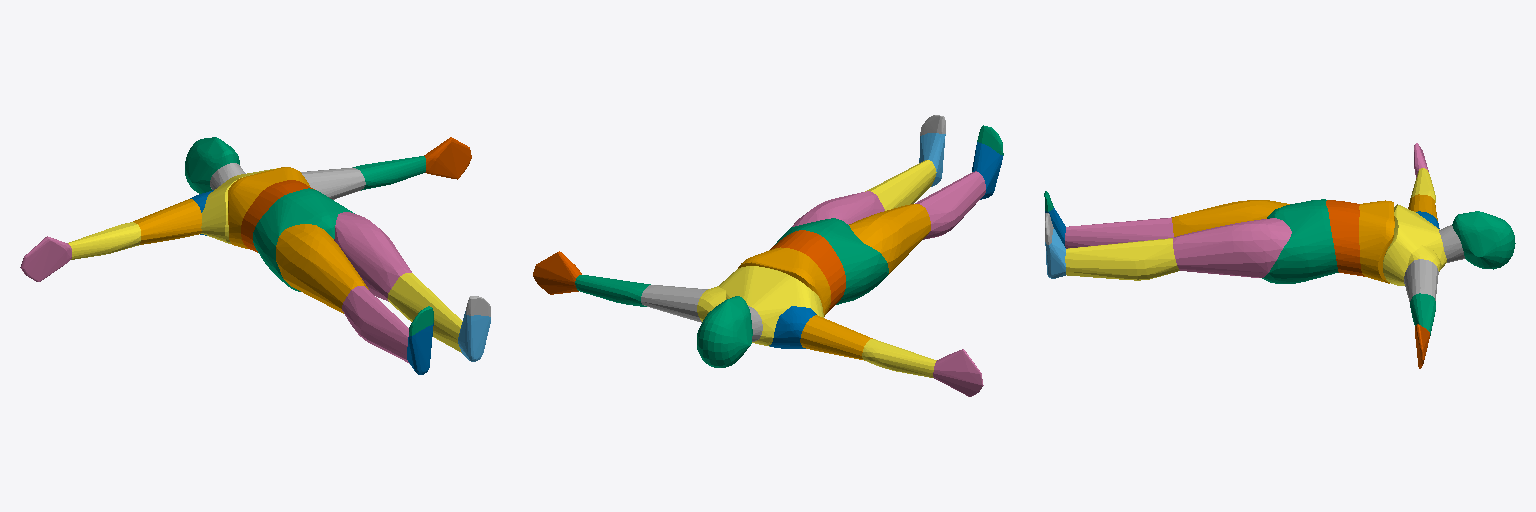
--- Facts derived from the render (not from the file) ---
The picture shows the robot from 3 angles, left to right: view 1: azimuth 30°, elevation 25°; view 2: azimuth 150°, elevation 25°; view 3: azimuth 270°, elevation 25°; orthographic projection.
Robot: Humanoid — 71 links, 70 joints (63 revolute, 7 fixed); root link root; default pose: all joints at 0.
Links seen in each view (by area): view 1: right_UpLeg_rx, left_UpLeg_rx, hip_rx, right_leg_rx, left_leg_rx, spine1_rx, right_arm_rx, head, right_fore_arm_rx, right_hand, left_fore_arm_rx, left_hand (+5 smaller); view 2: spine2_rx, hip_rx, right_UpLeg_rx, head, right_leg_rx, spine1_rx, spine_rx, right_arm_rx, left_leg_rx, left_UpLeg_rx, right_fore_arm_rx, left_arm_rx (+7 smaller); view 3: left_UpLeg_rx, hip_rx, left_leg_rx, head, spine2_rx, spine1_rx, right_leg_rx, right_UpLeg_rx, spine_rx, left_arm_rx, left_fore_arm_rx, left_foot_rx (+1 smaller).
Link boxes in pixels (x1=…): right_UpLeg_rx: x1=276, y1=224, x2=368, y2=313; left_UpLeg_rx: x1=334, y1=212, x2=411, y2=301; hip_rx: x1=253, y1=188, x2=354, y2=291; right_leg_rx: x1=342, y1=286, x2=409, y2=363; left_leg_rx: x1=387, y1=273, x2=462, y2=352; spine1_rx: x1=228, y1=167, x2=309, y2=248; right_arm_rx: x1=133, y1=199, x2=201, y2=244; head: x1=185, y1=137, x2=239, y2=193; right_fore_arm_rx: x1=68, y1=222, x2=140, y2=259; right_hand: x1=20, y1=236, x2=71, y2=281; left_fore_arm_rx: x1=353, y1=156, x2=425, y2=190; left_hand: x1=424, y1=137, x2=471, y2=179; spine2_rx: x1=719, y1=266, x2=823, y2=346; hip_rx: x1=775, y1=218, x2=888, y2=304; right_UpLeg_rx: x1=849, y1=204, x2=930, y2=274; head: x1=697, y1=296, x2=752, y2=367; right_leg_rx: x1=915, y1=171, x2=985, y2=239; spine1_rx: x1=738, y1=247, x2=830, y2=316; spine_rx: x1=770, y1=230, x2=845, y2=312; right_arm_rx: x1=800, y1=315, x2=872, y2=360; left_leg_rx: x1=865, y1=160, x2=936, y2=210; left_UpLeg_rx: x1=792, y1=191, x2=884, y2=226; right_fore_arm_rx: x1=862, y1=339, x2=936, y2=377; left_arm_rx: x1=641, y1=285, x2=707, y2=322; left_UpLeg_rx: x1=1173, y1=218, x2=1291, y2=277; hip_rx: x1=1262, y1=199, x2=1338, y2=283; left_leg_rx: x1=1065, y1=238, x2=1179, y2=280; head: x1=1452, y1=211, x2=1515, y2=269; spine2_rx: x1=1383, y1=204, x2=1446, y2=285; spine1_rx: x1=1359, y1=200, x2=1394, y2=283; right_leg_rx: x1=1065, y1=217, x2=1173, y2=248; right_UpLeg_rx: x1=1172, y1=200, x2=1289, y2=236; spine_rx: x1=1326, y1=200, x2=1364, y2=276; left_arm_rx: x1=1404, y1=259, x2=1438, y2=301; left_fore_arm_rx: x1=1410, y1=293, x2=1435, y2=335; left_foot_rx: x1=1045, y1=229, x2=1065, y2=278.
Size in the robot's own frame: 1.75 by 1.72 by 0.2905 metres.
Meshes: 22 distinct files referenced, 22 mesh visuals loaded (22 OBJ).

robot.urdf — Humanoid:
<?xml version="1.0"?>
<robot name="Humanoid">
    <link name="root">
		
	</link>

    <link name="assist_link1">
        
    </link>

    <joint name="0" type="fixed">
        <origin xyz="0 0 0" rpy="0.0 0.0 0.0"/>
        <parent link="root"/>
        <child link="assist_link1"/>
        <axis xyz="0.0 0.0 0.0"/>
        <limit lower="0.0" upper="0.0" effort="0.0" velocity="0.0"/>
    </joint>

    <joint name="assist_jointA1" type="fixed">
        <origin xyz="0.0 0.0 0.0" rpy="0.0 0.0 0.0"/>
        <parent link="assist_link1"/>
        <child link="hip_rx"/>
        <axis xyz="0.0 0.0 0.0"/>
        <limit lower="0.0" upper="0.0" effort="0.0" velocity="0.0"/>
    </joint>

    <link name="hip_rx">
        <visual>
            <origin xyz="0.00057561 -0.00681268 -0.01696218" rpy="0.0 0.0 0.0"/>
            <geometry>
                <mesh filename="package://Humanoid/meshes/body_parts_hips.obj" />
            </geometry>
        </visual>
        <collision>
            <origin xyz="0.00057561 -0.00681268 -0.01696218" rpy="0.0 0.0 0.0"/>
            <geometry>
                <mesh filename="package://Humanoid/meshes/body_parts_hips.obj" />
            </geometry>
        </collision>
    </link>

    <joint name="assist_jointA2" type="fixed">
        <origin xyz="0.0 0.0 0.0" rpy="0.0 0.0 0.0"/>
        <parent link="assist_link1"/>
        <child link="temp1_rx"/>
        <axis xyz="0.0 0.0 0.0"/>
        <limit lower="0.0" upper="0.0" effort="0.0" velocity="0.0"/>
    </joint>

    <joint name="assist_jointA3" type="fixed">
        <origin xyz="0.0 0.0 0.0" rpy="0.0 0.0 0.0"/>
        <parent link="assist_link1"/>
        <child link="temp2_rx"/>
    </joint>

    <link name="temp2_rx">
        
    </link>

    <joint name="1_rx" type="revolute">
        <origin xyz="0.06951974 -0.09140623 -0.00681533" rpy="0.0 0.0 0.0"/>
        <parent link="temp2_rx"/>
        <child link="temp2_ry"/>
        <axis xyz="1.0 0.0 0.0"/>
        <limit lower="-2.2" upper="1.1" effort="1000.0" velocity="0.5"/>
    </joint>

    <link name="temp2_ry">
        
    </link>

    <joint name="1_ry" type="revolute">
        <origin xyz="0 0 0" rpy="0.0 0.0 0.0"/>
        <parent link="temp2_ry"/>
        <child link="temp2_rz"/>
        <axis xyz="0.0 1.0 0.0"/>
        <limit lower="-1.2" upper="1.1" effort="1000.0" velocity="0.5"/>
    </joint>

    <link name="temp2_rz">
        
    </link>

    <joint name="1_rz" type="revolute">
        <origin xyz="0 0 0" rpy="0.0 0.0 0.0"/>
        <parent link="temp2_rz"/>
        <child link="left_UpLeg_rx"/>
        <axis xyz="0.0 0.0 1.0"/>
        <limit lower="-1.5" upper="1.3" effort="1000.0" velocity="0.5"/>
    </joint>

    <link name="left_UpLeg_rx">
        <visual>
            <origin xyz="0.02136212  -0.15149257  0.00267958" rpy="0.0 0.0 0.0"/>
            <geometry>
                <mesh filename="package://Humanoid/meshes/body_parts_leftUpLeg.obj" />
            </geometry>
        </visual>
        <collision>
            <origin xyz="0.02136212 -0.15149257 0.00267958" rpy="0.0 0.0 0.0"/>
            <geometry>
                <mesh filename="package://Humanoid/meshes/body_parts_leftUpLeg.obj" />
            </geometry>
        </collision>
    </link>

    <link name="temp1_rx">
        
    </link>

    <link name="right_UpLeg_rx">
        <visual>
            <origin xyz="-0.02252603 -0.15352734 -0.00307775" rpy="0.0 0.0 0.0"/>
            <geometry>
                <mesh filename="package://Humanoid/meshes/body_parts_rightUpLeg.obj" />
            </geometry>
        </visual>
        <collision>
            <origin xyz="-0.02252603 -0.15352734 -0.00307775" rpy="0.0 0.0 0.0"/>
            <geometry>
                <mesh filename="package://Humanoid/meshes/body_parts_rightUpLeg.obj" />
            </geometry>
        </collision>
    </link>

    <joint name="2_rx" type="revolute">
        <origin xyz="-0.06767048 -0.09052169 -0.00431982" rpy="0.0 0.0 0.0"/>
        <parent link="temp1_rx"/>
        <child link="temp1_ry"/>
        <axis xyz="1.0 0.0 0.0"/>
        <limit lower="-2.2" upper="1.1" effort="1000.0" velocity="0.5"/>
    </joint>

    <link name="temp1_ry">
        
    </link>

    <joint name="2_ry" type="revolute">
        <origin xyz="0 0 0" rpy="0.0 0.0 0.0"/>
        <parent link="temp1_ry"/>
        <child link="temp1_rz"/>
        <axis xyz="0.0 1.0 0.0"/>
        <limit lower="-1.2" upper="1.1" effort="1000.0" velocity="0.5"/>
    </joint>

    <link name="temp1_rz">
        
    </link>

    <joint name="2_rz" type="revolute">
        <origin xyz="0 0 0" rpy="0.0 0.0 0.0"/>
        <parent link="temp1_rz"/>
        <child link="right_UpLeg_rx"/>
        <axis xyz="0.0 0.0 1.0"/>
        <limit lower="-1.5" upper="1.3" effort="1000.0" velocity="0.5"/>
    </joint>

    <link name="left_leg_rx">
        <visual>
            <origin xyz="-0.00726278 -0.16462932 -0.0345356" rpy="0.0 0.0 0.0"/>
            <geometry>
                <mesh filename="package://Humanoid/meshes/body_parts_leftLeg.obj" />
            </geometry>
        </visual>
        <collision>
            <origin xyz="-0.00726278 -0.16462932 -0.0345356" rpy="0.0 0.0 0.0"/>
            <geometry>
                <mesh filename="package://Humanoid/meshes/body_parts_leftLeg.obj" />
            </geometry>
        </collision>
    </link>

    <joint name="4_rx" type="revolute">
        <origin xyz="0.03427655 -0.37519857 -0.00449581" rpy="0.0 0.0 0.0"/>
        <parent link="left_UpLeg_rx"/>
        <child link="left_UpLeg_ry"/>
        <axis xyz="1.0 0.0 0.0"/>
        <limit lower="-1.2" upper="2.9" effort="1000.0" velocity="0.5"/>
    </joint>

    <link name="left_UpLeg_ry">
        
    </link>

    <joint name="4_ry" type="revolute">
        <origin xyz="0.0 0.0 0.0" rpy="0.0 0.0 0.0"/>
        <parent link="left_UpLeg_ry"/>
        <child link="left_UpLeg_rz"/>
        <axis xyz="0.0 1.0 0.0"/>
        <limit lower="-1.0" upper="1.0" effort="1000.0" velocity="0.5"/>
    </joint>

    <link name="left_UpLeg_rz">
        
    </link>

    <joint name="4_rz" type="revolute">
        <origin xyz="0.0 0.0 0.0" rpy="0.0 0.0 0.0"/>
        <parent link="left_UpLeg_rz"/>
        <child link="left_leg_rx"/>
        <axis xyz="0.0 0.0 1.0"/>
        <limit lower="-0.8" upper="0.7" effort="1000.0" velocity="0.5"/>
    </joint>

    <link name="right_leg_rx">
        <visual>
            <origin xyz="0.01018021 -0.15886355 -0.03476419" rpy="0.0 0.0 0.0"/>
            <geometry>
                <mesh filename="package://Humanoid/meshes/body_parts_rightLeg.obj" />
            </geometry>
        </visual>
        <collision>
            <origin xyz="0.01018021 -0.15886355 -0.03476419" rpy="0.0 0.0 0.0"/>
            <geometry>
                <mesh filename="package://Humanoid/meshes/body_parts_rightLeg.obj" />
            </geometry>
        </collision>
    </link>

    <joint name="5_rx" type="revolute">
        <origin xyz="-0.03829005 -0.382569 -0.00885003" rpy="0.0 0.0 0.0"/>
        <parent link="right_UpLeg_rx"/>
        <child link="right_UpLeg_ry"/>
        <axis xyz="1.0 0.0 0.0"/>
        <limit lower="-1.2" upper="2.9" effort="1000.0" velocity="0.5"/>
    </joint>

    <link name="right_UpLeg_ry">
        
    </link>

    <joint name="5_ry" type="revolute">
        <origin xyz="0.0 0.0 0.0" rpy="0.0 0.0 0.0"/>
        <parent link="right_UpLeg_ry"/>
        <child link="right_UpLeg_rz"/>
        <axis xyz="0.0 1.0 0.0"/>
        <limit lower="-1.0" upper="1.0" effort="1000.0" velocity="0.5"/>
    </joint>

    <link name="right_UpLeg_rz">
        
    </link>

    <joint name="5_rz" type="revolute">
        <origin xyz="0.0 0.0 0.0" rpy="0.0 0.0 0.0"/>
        <parent link="right_UpLeg_rz"/>
        <child link="right_leg_rx"/>
        <axis xyz="0.0 0.0 1.0"/>
        <limit lower="-0.8" upper="0.7" effort="1000.0" velocity="0.5"/>
    </joint>

    <link name="left_foot_rx">
        <visual>
            <origin xyz="0.01451171 -0.03682505 0.03742239" rpy="0.0 0.0 0.0"/>
            <geometry>
                <mesh filename="package://Humanoid/meshes/body_parts_leftFoot.obj" />
            </geometry>
        </visual>
        <collision>
            <origin xyz="0.01451171 -0.03682505 0.03742239" rpy="0.0 0.0 0.0"/>
            <geometry>
                <mesh filename="package://Humanoid/meshes/body_parts_leftFoot.obj" />
            </geometry>
        </collision>
    </link>

    <joint name="7_rx" type="revolute">
        <origin xyz="-0.0135957 -0.39796048 -0.04369333" rpy="0.0 0.0 0.0"/>
        <parent link="left_leg_rx"/>
        <child link="left_leg_ry"/>
        <axis xyz="1.0 0.0 0.0"/>
        <limit lower="-1.3" upper="1.2" effort="1000.0" velocity="0.5"/>
    </joint>

    <link name="left_leg_ry">
        
    </link>

    <joint name="7_ry" type="revolute">
        <origin xyz="0 0 0" rpy="0.0 0.0 0.0"/>
        <parent link="left_leg_ry"/>
        <child link="left_leg_rz"/>
        <axis xyz="0.0 1.0 0.0"/>
        <limit lower="-1.3" upper="1.0" effort="1000.0" velocity="0.5"/>
    </joint>

    <link name="left_leg_rz">
        
    </link>

    <joint name="7_rz" type="revolute">
        <origin xyz="0 0 0" rpy="0.0 0.0 0.0"/>
        <parent link="left_leg_rz"/>
        <child link="left_foot_rx"/>
        <axis xyz="0.0 0.0 1.0"/>
        <limit lower="-0.6" upper="1.3" effort="1000.0" velocity="0.5"/>
    </joint>

    <link name="right_foot_rx">
        <visual>
            <origin xyz="-0.01278681 -0.02989952 0.0397387" rpy="0.0 0.0 0.0"/>
            <geometry>
                <mesh filename="package://Humanoid/meshes/body_parts_rightFoot.obj" />
            </geometry>
        </visual>
        <collision>
            <origin xyz="-0.01278681 -0.02989952 0.0397387" rpy="0.0 0.0 0.0"/>
            <geometry>
                <mesh filename="package://Humanoid/meshes/body_parts_rightFoot.obj" />
            </geometry>
        </collision>
    </link>

    <joint name="8_rx" type="revolute">
        <origin xyz="0.01577377 -0.3984146 -0.0423118" rpy="0.0 0.0 0.0"/>
        <parent link="right_leg_rx"/>
        <child link="right_leg_ry"/>
        <axis xyz="1.0 0.0 0.0"/>
        <limit lower="-1.3" upper="1.2" effort="1000.0" velocity="0.5"/>
    </joint>

    <link name="right_leg_ry">
        
    </link>

    <joint name="8_ry" type="revolute">
        <origin xyz="0 0 0" rpy="0.0 0.0 0.0"/>
        <parent link="right_leg_ry"/>
        <child link="right_leg_rz"/>
        <axis xyz="0.0 1.0 0.0"/>
        <limit lower="-1.3" upper="1.0" effort="1000.0" velocity="0.5"/>
    </joint>

    <link name="right_leg_rz">
        
    </link>

    <joint name="8_rz" type="revolute">
        <origin xyz="0 0 0" rpy="0.0 0.0 0.0"/>
        <parent link="right_leg_rz"/>
        <child link="right_foot_rx"/>
        <axis xyz="0.0 0.0 1.0"/>
        <limit lower="-0.6" upper="1.3" effort="1000.0" velocity="0.5"/>
    </joint>

    <link name="left_toe">
        <visual>
            <origin xyz="-0.0072139 -0.00405795 0.02618084" rpy="0.0 0.0 0.0"/>
            <geometry>
                <mesh filename="package://Humanoid/meshes/body_parts_leftToeBase.obj" />
            </geometry>
        </visual>
        <collision>
            <origin xyz="-0.0072139 -0.00405795 0.02618084" rpy="0.0 0.0 0.0"/>
            <geometry>
                <mesh filename="package://Humanoid/meshes/body_parts_leftToeBase.obj" />
            </geometry>
        </collision>
    </link>

    <joint name="10_rx" type="revolute">
        <origin xyz="0.02635814 -0.05579078 0.1192884" rpy="0.0 0.0 0.0"/>
        <parent link="left_foot_rx"/>
        <child link="left_foot_ry"/>
        <axis xyz="1.0 0.0 0.0"/>
        <limit lower="-0.9" upper="0.3" effort="1000.0" velocity="0.5"/>
    </joint>

    <link name="left_foot_ry">
        
    </link>

    <joint name="10_ry" type="revolute">
        <origin xyz="0.0 0.0 0.0" rpy="0.0 0.0 0.0"/>
        <parent link="left_foot_ry"/>
        <child link="left_foot_rz"/>
        <axis xyz="0.0 1.0 0.0"/>
        <limit lower="-0.3" upper="0.6" effort="1000.0" velocity="0.5"/>
    </joint>

    <link name="left_foot_rz">
        
    </link>

    <joint name="10_rz" type="revolute">
        <origin xyz="0.0 0.0 0.0" rpy="0.0 0.0 0.0"/>
        <parent link="left_foot_rz"/>
        <child link="left_toe"/>
        <axis xyz="0.0 0.0 1.0"/>
        <limit lower="-0.8" upper="0.8" effort="1000.0" velocity="0.5"/>
    </joint>

    <link name="right_toe">
        <visual>
            <origin xyz="0.00808544 -0.00602809 0.02469485" rpy="0.0 0.0 0.0"/>
            <geometry>
                <mesh filename="package://Humanoid/meshes/body_parts_rightToeBase.obj" />
            </geometry>
        </visual>
        <collision>
            <origin xyz="0.00808544 -0.00602809 0.02469485" rpy="0.0 0.0 0.0"/>
            <geometry>
                <mesh filename="package://Humanoid/meshes/body_parts_rightToeBase.obj" />
            </geometry>
        </collision>
    </link>

    <joint name="11_rx" type="revolute">
        <origin xyz="-0.02537176 -0.04814398 0.12334795" rpy="0.0 0.0 0.0"/>
        <parent link="right_foot_rx"/>
        <child link="right_foot_ry"/>
        <axis xyz="1.0 0.0 0.0"/>
        <limit lower="-0.9" upper="0.3" effort="1000.0" velocity="0.5"/>
    </joint>

    <link name="right_foot_ry">
        
    </link>

    <joint name="11_ry" type="revolute">
        <origin xyz="0.0 0.0 0.0" rpy="0.0 0.0 0.0"/>
        <parent link="right_foot_ry"/>
        <child link="right_foot_rz"/>
        <axis xyz="0.0 1.0 0.0"/>
        <limit lower="-0.3" upper="0.6" effort="1000.0" velocity="0.5"/>
    </joint>

    <link name="right_foot_rz">
        
    </link>

    <joint name="11_rz" type="revolute">
        <origin xyz="0.0 0.0 0.0" rpy="0.0 0.0 0.0"/>
        <parent link="right_foot_rz"/>
        <child link="right_toe"/>
        <axis xyz="0.0 0.0 1.0"/>
        <limit lower="-0.8" upper="0.8" effort="1000.0" velocity="0.5"/>
    </joint>

    <link name="spine_rx">
        <visual>
            <origin xyz="0.0029969 0.06265952 0.02763221" rpy="0.0 0.0 0.0"/>
            <geometry>
                <mesh filename="package://Humanoid/meshes/body_parts_spine.obj" />
            </geometry>
        </visual>
        <collision>
            <origin xyz="0.0029969 0.06265952 0.02763221" rpy="0.0 0.0 0.0"/>
            <geometry>
                <mesh filename="package://Humanoid/meshes/body_parts_spine.obj" />
            </geometry>
        </collision>
    </link>
    
    <joint name="3_rx" type="revolute">
        <origin xyz="-0.00253287 0.10896324 -0.02669631" rpy="0.0 0.0 0.0"/>
        <parent link="hip_rx"/>
        <child link="hip_ry"/>
        <axis xyz="1.0 0.0 0.0"/>
        <limit lower="-0.8" upper="2.3" effort="1000.0" velocity="0.5"/>
    </joint>

    <link name="hip_ry">
        
    </link>

    <joint name="3_ry" type="revolute">
        <origin xyz="0 0 0" rpy="0.0 0.0 0.0"/>
        <parent link="hip_ry"/>
        <child link="hip_rz"/>
        <axis xyz="0.0 1.0 0.0"/>
        <limit lower="-0.7" upper="1.0" effort="1000.0" velocity="0.5"/>
    </joint>

    <link name="hip_rz">
        
    </link>

    <joint name="3_rz" type="revolute">
        <origin xyz="0 0 0" rpy="0.0 0.0 0.0"/>
        <parent link="hip_rz"/>
        <child link="spine_rx"/>
        <axis xyz="0.0 1.0 0.0"/>
        <limit lower="-0.7" upper="0.6" effort="1000.0" velocity="0.5"/>
    </joint>

    <link name="spine1_rx">
        <visual>
            <origin xyz="-0.00052418 0.02933144 0.02045965" rpy="0.0 0.0 0.0"/>
            <geometry>
                <mesh filename="package://Humanoid/meshes/body_parts_spine1.obj" />
            </geometry>
        </visual>
        <collision>
            <origin xyz="-0.00052418 0.02933144 0.02045965" rpy="0.0 0.0 0.0"/>
            <geometry>
                <mesh filename="package://Humanoid/meshes/body_parts_spine1.obj" />
            </geometry>
        </collision>
    </link>

    <joint name="6_rx" type="revolute">
        <origin xyz="0.00548704 0.13518043 0.00109247" rpy="0.0 0.0 0.0"/>
        <parent link="spine_rx"/>
        <child link="spine_ry"/>
        <axis xyz="1.0 0.0 0.0"/>
        <limit lower="-1.2" upper="1.0" effort="1000.0" velocity="0.5"/>
    </joint>

    <link name="spine_ry">
        
    </link>

    <joint name="6_ry" type="revolute">
        <origin xyz="0 0 0" rpy="0.0 0.0 0.0"/>
        <parent link="spine_ry"/>
        <child link="spine_rz"/>
        <axis xyz="0.0 1.0 0.0"/>
        <limit lower="-1.3" upper="1.0" effort="1000.0" velocity="0.5"/>
    </joint>

    <link name="spine_rz">
        
    </link>

    <joint name="6_rz" type="revolute">
        <origin xyz="0 0 0" rpy="0.0 0.0 0.0"/>
        <parent link="spine_rz"/>
        <child link="spine1_rx"/>
        <axis xyz="0.0 0.0 1.0"/>
        <limit lower="-0.5" upper="0.6" effort="1000.0" velocity="0.5"/>
    </joint>

    <link name="spine2_rx">
        <visual>
            <origin xyz="-0.0022121 0.09440039 -0.03596294" rpy="0.0 0.0 0.0"/>
            <geometry>
                <mesh filename="package://Humanoid/meshes/body_parts_spine2.obj" />
            </geometry>
        </visual>
        <collision>
            <origin xyz="-0.0022121 0.09440039 -0.03596294" rpy="0.0 0.0 0.0"/>
            <geometry>
                <mesh filename="package://Humanoid/meshes/body_parts_spine2.obj" />
            </geometry>
        </collision>
    </link>

    <link name="assist_link2">
        
    </link>

    <joint name="9_rx" type="revolute">
        <origin xyz="0.001457 0.05292223 0.02542457" rpy="0.0 0.0 0.0"/>
        <parent link="spine1_rx"/>
        <child link="spine1_ry"/>
        <axis xyz="1.0 0.0 0.0"/>
        <limit lower="-0.9" upper="1.1" effort="1000.0" velocity="0.5"/>
    </joint>

    <link name="spine1_ry">
        
    </link>

    <joint name="9_ry" type="revolute">
        <origin xyz="0 0 0" rpy="0.0 0.0 0.0"/>
        <parent link="spine1_ry"/>
        <child link="spine1_rz"/>
        <axis xyz="0.0 1.0 0.0"/>
        <limit lower="-0.7" upper="0.6" effort="1000.0" velocity="0.5"/>
    </joint>

    <link name="spine1_rz">
        
    </link>

    <joint name="9_rz" type="revolute">
        <origin xyz="0 0 0" rpy="0.0 0.0 0.0"/>
        <parent link="spine1_rz"/>
        <child link="assist_link2"/>
        <axis xyz="0.0 0.0 1.0"/>
        <limit lower="-0.4" upper="0.4" effort="1000.0" velocity="0.5"/>
    </joint>

    <joint name="assist_B1" type="fixed">
        <origin xyz="0.0 0.0 0.0" rpy="0.0 0.0 0.0"/>
        <parent link="assist_link2"/>
        <child link="temp14_rx"/>
        <axis xyz="0.0 0.0 0.0"/>
        <limit lower="0.0" upper="0.0" effort="0.0" velocity="0.0"/>
    </joint>

     <joint name="assist_B2" type="fixed">
        <origin xyz="0.0 0.0 0.0" rpy="0.0 0.0 0.0"/>
        <parent link="assist_link2"/>
        <child link="spine2_rx"/>
        <axis xyz="0.0 0.0 0.0"/>
        <limit lower="0.0" upper="0.0" effort="0.0" velocity="0.0"/>
    </joint>

     <joint name="assist_B3" type="fixed">
        <origin xyz="0.0 0.0 0.0" rpy="0.0 0.0 0.0"/>
        <parent link="assist_link2"/>
        <child link="temp13_rx"/>
        <axis xyz="0.0 0.0 0.0"/>
        <limit lower="0.0" upper="0.0" effort="0.0" velocity="0.0"/>
    </joint>
    

    <link name="neck_rx">
        <visual>
            <origin xyz="0.00058504 0.03762274 0.01938053" rpy="0.0 0.0 0.0"/>
            <geometry>
                <mesh filename="package://Humanoid/meshes/body_parts_neck.obj" />
            </geometry>
        </visual>
        <collision>
            <origin xyz="0.00058504 0.03762274 0.01938053" rpy="0.0 0.0 0.0"/>
            <geometry>
                <mesh filename="package://Humanoid/meshes/body_parts_neck.obj" />
            </geometry>
        </collision>
    </link>

    <joint name="12_rx" type="revolute">
        <origin xyz="-0.00277839 0.21387038 -0.04285703" rpy="0.0 0.0 0.0"/>
        <parent link="spine2_rx"/>
        <child link="spine2_ry"/>
        <axis xyz="1.0 0.0 0.0"/>
        <limit lower="-1.5" upper="2.0" effort="1000.0" velocity="0.5"/>
    </joint>

    <link name="spine2_ry">
        
    </link>

    <joint name="12_ry" type="revolute">
        <origin xyz="0 0 0" rpy="0.0 0.0 0.0"/>
        <parent link="spine2_ry"/>
        <child link="spine2_rz"/>
        <axis xyz="0.0 1.0 0.0"/>
        <limit lower="-1.0" upper="1.0" effort="1000.0" velocity="0.5"/>
    </joint>

    <link name="spine2_rz">
        
    </link>

    <joint name="12_rz" type="revolute">
        <origin xyz="0 0 0" rpy="0.0 0.0 0.0"/>
        <parent link="spine2_rz"/>
        <child link="neck_rx"/>
        <axis xyz="0.0 0.0 1.0"/>
        <limit lower="-0.7" upper="0.7" effort="1000.0" velocity="0.5"/>
    </joint>

    <link name="head">
        <visual>
            <origin xyz="-0.00434165 0.0912436 -0.0164248" rpy="0.0 0.0 0.0"/>
            <geometry>
                <mesh filename="package://Humanoid/meshes/body_parts_head.obj" />
            </geometry>
        </visual>
        <collision>
            <origin xyz="-0.00434165 0.0912436 -0.0164248" rpy="0.0 0.0 0.0"/>
            <geometry>
                <mesh filename="package://Humanoid/meshes/body_parts_head.obj" />
            </geometry>
        </collision>
    </link>

    <joint name="15_rx" type="revolute">
        <origin xyz="0.00515184 0.06496963 0.05134897" rpy="0.0 0.0 0.0"/>
        <parent link="neck_rx"/>
        <child link="neck_ry"/>
        <axis xyz="1.0 0.0 0.0"/>
        <limit lower="-1.4" upper="1.8" effort="1000.0" velocity="0.5"/>
    </joint>

    <link name="neck_ry">
        
    </link>

    <joint name="15_ry" type="revolute">
        <origin xyz="0 0 0" rpy="0.0 0.0 0.0"/>
        <parent link="neck_ry"/>
        <child link="neck_rz"/>
        <axis xyz="0.0 1.0 0.0"/>
        <limit lower="-1.3" upper="1.0" effort="1000.0" velocity="0.5"/>
    </joint>

    <link name="neck_rz">
        
    </link>

    <joint name="15_rz" type="revolute">
        <origin xyz="0 0 0" rpy="0.0 0.0 0.0"/>
        <parent link="neck_rz"/>
        <child link="head"/>
        <axis xyz="0.0 0.0 1.0"/>
        <limit lower="-0.9" upper="1.6" effort="1000.0" velocity="0.5"/>
    </joint>

    <link name="temp14_rx">
    </link>

    <joint name="13_rx" type="revolute">
        <origin xyz="0.07884474 0.12174932 -0.03408961" rpy="0.0 0.0 0.0"/>
        <parent link="temp14_rx"/>
        <child link="temp14_ry"/>
        <axis xyz="1.0 0.0 0.0"/>
        <limit lower="-1.3" upper="1.7" effort="1000.0" velocity="0.5"/>
    </joint>

    <link name="temp14_ry">
        
    </link>

    <joint name="13_ry" type="revolute">
        <origin xyz="0 0 0" rpy="0.0 0.0 0.0"/>
        <parent link="temp14_ry"/>
        <child link="temp14_rz"/>
        <axis xyz="0.0 1.0 0.0"/>
        <limit lower="-0.9" upper="1.0" effort="1000.0" velocity="0.5"/>
    </joint>

    <link name="temp14_rz">
        
    </link>

    <joint name="13_rz" type="revolute">
        <origin xyz="0 0 0" rpy="0.0 0.0 0.0"/>
        <parent link="temp14_rz"/>
        <child link="left_shoulder_rx"/>
        <axis xyz="0.0 0.0 1.0"/>
        <limit lower="-1.3" upper="1.2" effort="1000.0" velocity="0.5"/>
    </joint>    

    <link name="temp13_rx">
    </link>

    <joint name="14_rx" type="revolute">
        <origin xyz="-0.08175919 0.11883285 -0.03861528" rpy="0.0 0.0 0.0"/>
        <parent link="temp13_rx"/>
        <child link="temp13_ry"/>
        <axis xyz="1.0 0.0 0.0"/>
        <limit lower="-1.3" upper="1.7" effort="1000.0" velocity="0.5"/>
    </joint>

    <link name="temp13_ry">
        
    </link>

    <joint name="14_ry" type="revolute">
        <origin xyz="0 0 0" rpy="0.0 0.0 0.0"/>
        <parent link="temp13_ry"/>
        <child link="temp13_rz"/>
        <axis xyz="0.0 1.0 0.0"/>
        <limit lower="-0.9" upper="1.0" effort="1000.0" velocity="0.5"/>
    </joint>    

    <link name="temp13_rz">
        
    </link>

    <joint name="14_rz" type="revolute">
        <origin xyz="0 0 0" rpy="0.0 0.0 0.0"/>
        <parent link="temp13_rz"/>
        <child link="right_shoulder_rx"/>
        <axis xyz="0.0 0.0 1.0"/>
        <limit lower="-1.3" upper="1.2" effort="1000.0" velocity="0.5"/>
    </joint> 

    <link name="left_shoulder_rx">
        <visual>
            <origin xyz="0.06559623 0.02613187 -0.02027318" rpy="0.0 0.0 0.0"/>
            <geometry>
                <mesh filename="package://Humanoid/meshes/body_parts_leftShoulder.obj" />
            </geometry>
        </visual>
        <collision>
            <origin xyz="0.06559623 0.02613187 -0.02027318" rpy="0.0 0.0 0.0"/>
            <geometry>
                <mesh filename="package://Humanoid/meshes/body_parts_leftShoulder.obj" />
            </geometry>
        </collision>
    </link>

    <link name="right_shoulder_rx">
        <visual>
            <origin xyz="-0.0667859 0.02682777 -0.01567558" rpy="0.0 0.0 0.0"/>
            <geometry>
                <mesh filename="package://Humanoid/meshes/body_parts_rightShoulder.obj" />
            </geometry>
        </visual>
        <collision>
            <origin xyz="-0.0667859 0.02682777 -0.01567558" rpy="0.0 0.0 0.0"/>
            <geometry>
                <mesh filename="package://Humanoid/meshes/body_parts_rightShoulder.obj" />
            </geometry>
        </collision>
    </link>

    <joint name="16_rx" type="revolute">
        <origin xyz="0.09097692 0.03046888 -0.00886815" rpy="0.0 0.0 0.0"/>
        <parent link="left_shoulder_rx"/>
        <child link="left_shoulder_ry"/>
        <axis xyz="1.0 0.0 0.0"/>
        <limit lower="-3.1" upper="3.1" effort="1000.0" velocity="0.5"/>
    </joint>

    <link name="left_shoulder_ry">
        
    </link>

    <joint name="16_ry" type="revolute">
        <origin xyz="0 0 0" rpy="0.0 0.0 0.0"/>
        <parent link="left_shoulder_ry"/>
        <child link="left_shoulder_rz"/>
        <axis xyz="0.0 1.0 0.0"/>
        <limit lower="-1.3" upper="1.3" effort="1000.0" velocity="0.5"/>
    </joint>

    <link name="left_shoulder_rz">
        
    </link>

    <joint name="16_rz" type="revolute">
        <origin xyz="0 0 0" rpy="0.0 0.0 0.0"/>
        <parent link="left_shoulder_rz"/>
        <child link="left_arm_rx"/>
        <axis xyz="0.0 0.0 1.0"/>
        <limit lower="-3.1" upper="3.1" effort="1000.0" velocity="0.5"/>
    </joint>

    <link name="left_arm_rx">
        <visual>
            <origin xyz="0.12948829 -0.01228957 -0.0090026" rpy="0.0 0.0 0.0"/>
            <geometry>
                <mesh filename="package://Humanoid/meshes/body_parts_leftArm.obj" />
            </geometry>
        </visual>
        <collision>
            <origin xyz="0.12948829 -0.01228957 -0.0090026" rpy="0.0 0.0 0.0"/>
            <geometry>
                <mesh filename="package://Humanoid/meshes/body_parts_leftArm.obj" />
            </geometry>
        </collision>
    </link>

    <joint name="18_rx" type="revolute">
        <origin xyz="0.2596122 -0.01277207 -0.02745643" rpy="0.0 0.0 0.0"/>
        <parent link="left_arm_rx"/>
        <child link="left_arm_ry"/>
        <axis xyz="1.0 0.0 0.0"/>
        <limit lower="-3.14" upper="3.14" effort="1000.0" velocity="0.5"/>
    </joint>

    <link name="left_arm_ry">
        
    </link>

    <joint name="18_ry" type="revolute">
        <origin xyz="0 0 0" rpy="0.0 0.0 0.0"/>
        <parent link="left_arm_ry"/>
        <child link="left_arm_rz"/>
        <axis xyz="0.0 1.0 0.0"/>
        <limit lower="-1.57" upper="0.8" effort="1000.0" velocity="0.5"/>
    </joint>

    <link name="left_arm_rz">
        
    </link>

    <joint name="18_rz" type="revolute">
        <origin xyz="0 0 0" rpy="0.0 0.0 0.0"/>
        <parent link="left_arm_rz"/>
        <child link="left_fore_arm_rx"/>
        <axis xyz="0.0 0.0 1.0"/>
        <limit lower="-3.14" upper="3.14" effort="1000.0" velocity="0.5"/>
    </joint>

    <link name="left_fore_arm_rx">
        <visual>
            <origin xyz="0.10665728 0.00690599 0.00605961" rpy="0.0 0.0 0.0"/>
            <geometry>
                <mesh filename="package://Humanoid/meshes/body_parts_leftForeArm.obj" />
            </geometry>
        </visual>
        <collision>
            <origin xyz="0.10665728 0.00690599 0.00605961" rpy="0.0 0.0 0.0"/>
            <geometry>
                <mesh filename="package://Humanoid/meshes/body_parts_leftForeArm.obj" />
            </geometry>
        </collision>
    </link>

    <joint name="20_rx" type="revolute">
        <origin xyz="0.2492336 0.00898604 -0.00117092" rpy="0.0 0.0 0.0"/>
        <parent link="left_fore_arm_rx"/>
        <child link="left_fore_arm_ry"/>
        <axis xyz="1.0 0.0 0.0"/>
        <limit lower="-3.14" upper="3.1" effort="1000.0" velocity="0.5"/>
    </joint>

    <link name="left_fore_arm_ry">
        
    </link>

    <joint name="20_ry" type="revolute">
        <origin xyz="0 0 0" rpy="0.0 0.0 0.0"/>
        <parent link="left_fore_arm_ry"/>
        <child link="left_fore_arm_rz"/>
        <axis xyz="0.0 1.0 0.0"/>
        <limit lower="-1.57" upper="1.3" effort="1000.0" velocity="0.5"/>
    </joint>

    <link name="left_fore_arm_rz">
        
    </link>

    <joint name="20_rz" type="revolute">
        <origin xyz="0 0 0" rpy="0.0 0.0 0.0"/>
        <parent link="left_fore_arm_rz"/>
        <child link="left_hand"/>
        <axis xyz="0.0 0.0 1.0"/>
        <limit lower="-3.14" upper="3.1" effort="1000.0" velocity="0.5"/>
    </joint>

    <link name="left_hand">
        <visual>
            <origin xyz="0.08488861 -0.00938576 0.00616219" rpy="0.0 0.0 0.0"/>
            <geometry>
                <mesh filename="package://Humanoid/meshes/body_parts_leftHand.obj" />
            </geometry>
        </visual>
        <collision>
            <origin xyz="0.08488861 -0.00938576 0.00616219" rpy="0.0 0.0 0.0"/>
            <geometry>
                <mesh filename="package://Humanoid/meshes/body_parts_leftHand.obj" />
            </geometry>
        </collision>
    </link>

    <joint name="17_rx" type="revolute">
        <origin xyz="-0.09601238 0.03255117 -0.00914307" rpy="0.0 0.0 0.0"/>
        <parent link="right_shoulder_rx"/>
        <child link="right_shoulder_ry"/>
        <axis xyz="1.0 0.0 0.0"/>
        <limit lower="-3.1" upper="3.1" effort="1000.0" velocity="0.5"/>
    </joint>

    <link name="right_shoulder_ry">
        
    </link>

    <joint name="17_ry" type="revolute">
        <origin xyz="0 0 0" rpy="0.0 0.0 0.0"/>
        <parent link="right_shoulder_ry"/>
        <child link="right_shoulder_rz"/>
        <axis xyz="0.0 1.0 0.0"/>
        <limit lower="-1.3" upper="1.3" effort="1000.0" velocity="0.5"/>
    </joint>

    <link name="right_shoulder_rz">
        
    </link>

    <joint name="17_rz" type="revolute">
        <origin xyz="0 0 0" rpy="0.0 0.0 0.0"/>
        <parent link="right_shoulder_rz"/>
        <child link="right_arm_rx"/>
        <axis xyz="0.0 0.0 1.0"/>
        <limit lower="-3.1" upper="3.1" effort="1000.0" velocity="0.5"/>
    </joint>

    <link name="right_arm_rx">
        <visual>
            <origin xyz="-0.12550239 -0.01296561 -0.00590812" rpy="0.0 0.0 0.0"/>
            <geometry>
                <mesh filename="package://Humanoid/meshes/body_parts_rightArm.obj" />
            </geometry>
        </visual>
        <collision>
            <origin xyz="-0.12550239 -0.01296561 -0.00590812" rpy="0.0 0.0 0.0"/>
            <geometry>
                <mesh filename="package://Humanoid/meshes/body_parts_rightArm.obj" />
            </geometry>
        </collision>
    </link>

    <joint name="19_rx" type="revolute">
        <origin xyz="-0.25374195 -0.01332924 -0.02140098" rpy="0.0 0.0 0.0"/>
        <parent link="right_arm_rx"/>
        <child link="right_arm_ry"/>
        <axis xyz="1.0 0.0 0.0"/>
        <limit lower="-3.14" upper="3.14" effort="1000.0" velocity="0.5"/>
    </joint>

    <link name="right_arm_ry">
        
    </link>

    <joint name="19_ry" type="revolute">
        <origin xyz="0 0 0" rpy="0.0 0.0 0.0"/>
        <parent link="right_arm_ry"/>
        <child link="right_arm_rz"/>
        <axis xyz="0.0 1.0 0.0"/>
        <limit lower="-1.57" upper="0.8" effort="1000.0" velocity="0.5"/>
    </joint>

    <link name="right_arm_rz">
        
    </link>

    <joint name="19_rz" type="revolute">
        <origin xyz="0 0 0" rpy="0.0 0.0 0.0"/>
        <parent link="right_arm_rz"/>
        <child link="right_fore_arm_rx"/>
        <axis xyz="0.0 0.0 1.0"/>
        <limit lower="-3.14" upper="3.14" effort="1000.0" velocity="0.5"/>
    </joint>

    <link name="right_fore_arm_rx">
        <visual>
            <origin xyz="-0.10992141 0.00679169 0.00313351" rpy="0.0 0.0 0.0"/>
            <geometry>
                <mesh filename="package://Humanoid/meshes/body_parts_rightForeArm.obj" />
            </geometry>
        </visual>
        <collision>
            <origin xyz="-0.10992141 0.00679169 0.00313351" rpy="0.0 0.0 0.0"/>
            <geometry>
                <mesh filename="package://Humanoid/meshes/body_parts_rightForeArm.obj" />
            </geometry>
        </collision>
    </link>

    <joint name="21_rx" type="revolute">
        <origin xyz="-0.2552981 0.0077723 -0.0055592" rpy="0.0 0.0 0.0"/>
        <parent link="right_fore_arm_rx"/>
        <child link="right_fore_arm_ry"/>
        <axis xyz="1.0 0.0 0.0"/>
        <limit lower="-3.14" upper="3.1" effort="1000.0" velocity="0.5"/>
    </joint>

    <link name="right_fore_arm_ry">
        
    </link>

    <joint name="21_ry" type="revolute">
        <origin xyz="0 0 0" rpy="0.0 0.0 0.0"/>
        <parent link="right_fore_arm_ry"/>
        <child link="right_fore_arm_rz"/>
        <axis xyz="0.0 1.0 0.0"/>
        <limit lower="-1.57" upper="1.3" effort="1000.0" velocity="0.5"/>
    </joint>

    <link name="right_fore_arm_rz">
        
    </link>

    <joint name="21_rz" type="revolute">
        <origin xyz="0 0 0" rpy="0.0 0.0 0.0"/>
        <parent link="right_fore_arm_rz"/>
        <child link="right_hand"/>
        <axis xyz="0.0 0.0 1.0"/>
        <limit lower="-3.14" upper="3.1" effort="1000.0" velocity="0.5"/>
    </joint>

    <link name="right_hand">
        <visual>
            <origin xyz="-0.08138476 -0.00979895 0.0080402" rpy="0.0 0.0 0.0"/>
            <geometry>
                <mesh filename="package://Humanoid/meshes/body_parts_rightHand.obj" />
            </geometry>
        </visual>
        <collision>
            <origin xyz="-0.08138476 -0.00979895 0.0080402" rpy="0.0 0.0 0.0"/>
            <geometry>
                <mesh filename="package://Humanoid/meshes/body_parts_rightHand.obj" />
            </geometry>
        </collision>
    </link>

</robot>
